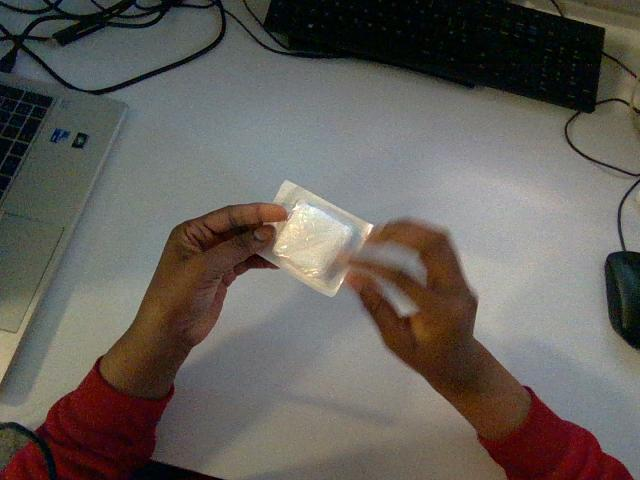gauze: (261, 181, 372, 296)
